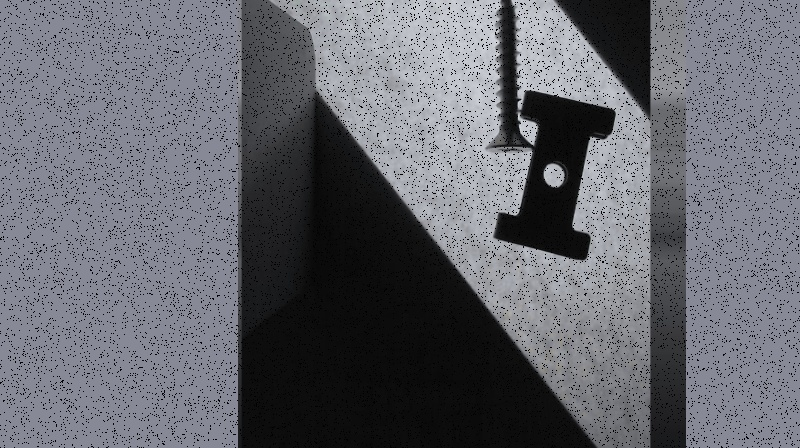O002: (489, 90, 615, 261)
S001: (484, 0, 533, 154)
